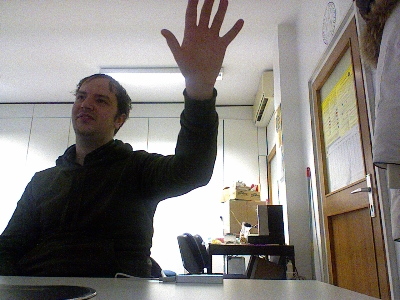布: (160, 0, 245, 85)
